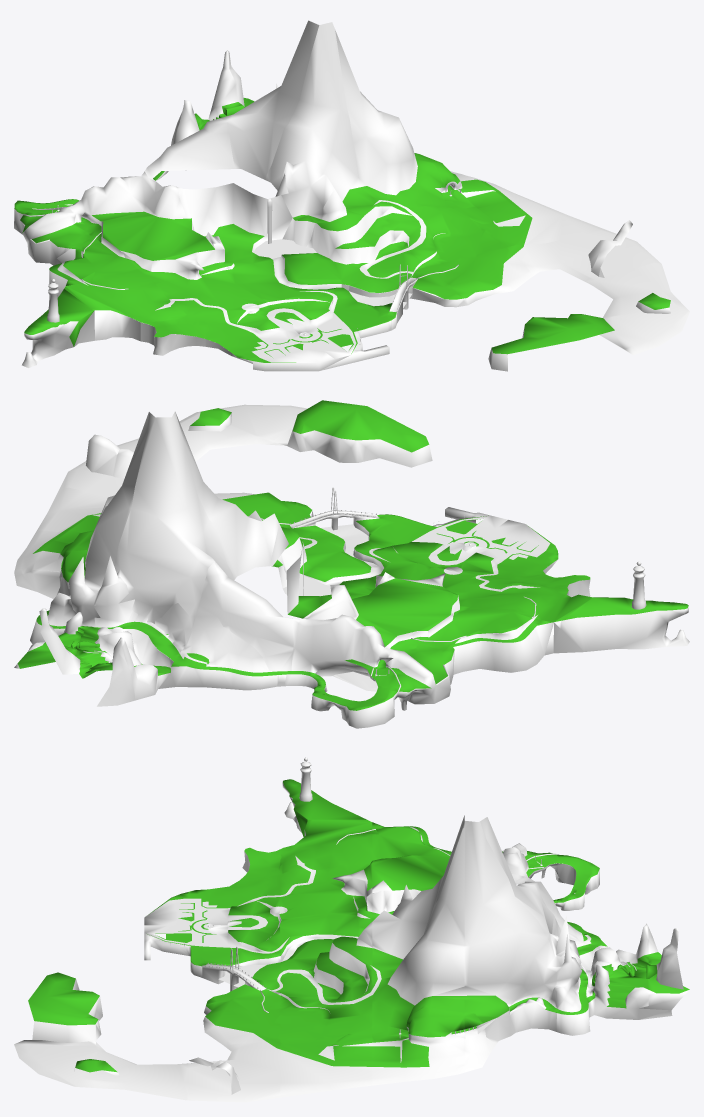
File: testarea3.glb
3 views of the same model, one above another, from view 1: azimuth 30°, elevation 25°; view 2: azimuth 150°, elevation 25°; view 3: azimuth 270°, elevation 25° (orthographic). The views are drawn at different scales.
Parts seen in each view (by area): view 1: Gctr_WuhuIsland1.025, Gctr_WuhuIsland1.030, Gctr_WuhuIsland1.026, Gctr_WuhuIsland1.018, Gctr_WuhuIsland1.041, Gctr_WuhuIsland1.024, Gctr_WuhuIsland1.012, Gctr_WuhuIsland1.006, Gctr_WuhuIsland1.029, Gctr_WuhuIsland1.035, Gctr_WuhuIsland1.013, Gctr_WuhuIsland1.011 (+18 smaller); view 2: Gctr_WuhuIsland1.024, Gctr_WuhuIsland1.014, Gctr_WuhuIsland1.023, Gctr_WuhuIsland1.037, Gctr_WuhuIsland1.002, Gctr_WuhuIsland1.005, Gctr_WuhuIsland1.019, Gctr_WuhuIsland1.016, Gctr_WuhuIsland1.041, Gctr_WuhuIsland1.025, Gctr_WuhuIsland1.013, Gctr_WuhuIsland1.031 (+20 smaller); view 3: Gctr_WuhuIsland1.031, Gctr_WuhuIsland1.030, Gctr_WuhuIsland1.033, Gctr_WuhuIsland1.041, Gctr_WuhuIsland1.022, Gctr_WuhuIsland1.034, Gctr_WuhuIsland1.035, Gctr_WuhuIsland1.037, Gctr_WuhuIsland1.012, Gctr_WuhuIsland1.026, Gctr_WuhuIsland1.029, Gctr_WuhuIsland1.006 (+20 smaller).
Part boxes in pixels (box(x1,y1,x2,y2)): Gctr_WuhuIsland1.025: box(265, 22, 379, 248); Gctr_WuhuIsland1.030: box(335, 30, 459, 208); Gctr_WuhuIsland1.026: box(301, 189, 425, 290); Gctr_WuhuIsland1.018: box(176, 173, 299, 260); Gctr_WuhuIsland1.041: box(585, 262, 689, 352); Gctr_WuhuIsland1.024: box(220, 20, 319, 179); Gctr_WuhuIsland1.012: box(141, 243, 266, 316); Gctr_WuhuIsland1.006: box(64, 272, 186, 341); Gctr_WuhuIsland1.029: box(381, 203, 505, 267); Gctr_WuhuIsland1.035: box(506, 220, 660, 281); Gctr_WuhuIsland1.013: box(95, 185, 220, 271); Gctr_WuhuIsland1.011: box(187, 303, 311, 362); Gctr_WuhuIsland1.024: box(114, 411, 233, 623); Gctr_WuhuIsland1.014: box(285, 585, 419, 691); Gctr_WuhuIsland1.023: box(64, 556, 195, 700); Gctr_WuhuIsland1.037: box(273, 400, 432, 467); Gctr_WuhuIsland1.002: box(553, 561, 689, 653); Gctr_WuhuIsland1.005: box(420, 607, 553, 674); Gctr_WuhuIsland1.019: box(196, 561, 312, 686); Gctr_WuhuIsland1.016: box(158, 616, 278, 690); Gctr_WuhuIsland1.041: box(117, 404, 307, 461); Gctr_WuhuIsland1.025: box(175, 412, 286, 590); Gctr_WuhuIsland1.013: box(333, 572, 470, 642); Gctr_WuhuIsland1.031: box(56, 412, 150, 597); Gctr_WuhuIsland1.031: box(433, 821, 556, 1044); Gctr_WuhuIsland1.030: box(371, 828, 464, 1032); Gctr_WuhuIsland1.033: box(372, 1007, 466, 1085); Gctr_WuhuIsland1.041: box(15, 1042, 188, 1100); Gctr_WuhuIsland1.022: box(556, 934, 670, 1035); Gctr_WuhuIsland1.034: box(280, 1033, 372, 1097); Gctr_WuhuIsland1.035: box(188, 1038, 280, 1102); Gctr_WuhuIsland1.037: box(14, 972, 102, 1047); Gctr_WuhuIsland1.012: box(279, 861, 372, 918); Gctr_WuhuIsland1.026: box(279, 922, 372, 999); Gctr_WuhuIsland1.029: box(280, 970, 372, 1038); Gctr_WuhuIsland1.006: box(280, 819, 378, 873).
Bounding box in the file's own units: 772 × 240 × 764.
